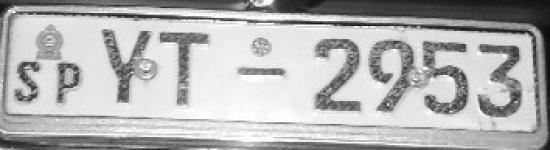-: (230, 60, 296, 90)
2: (302, 31, 364, 118)
3: (473, 35, 528, 123)
5: (417, 33, 473, 121)
9: (365, 34, 416, 116)
P: (49, 58, 88, 110)
S: (13, 58, 44, 108)
T: (154, 27, 216, 109)
Y: (95, 23, 157, 108)
